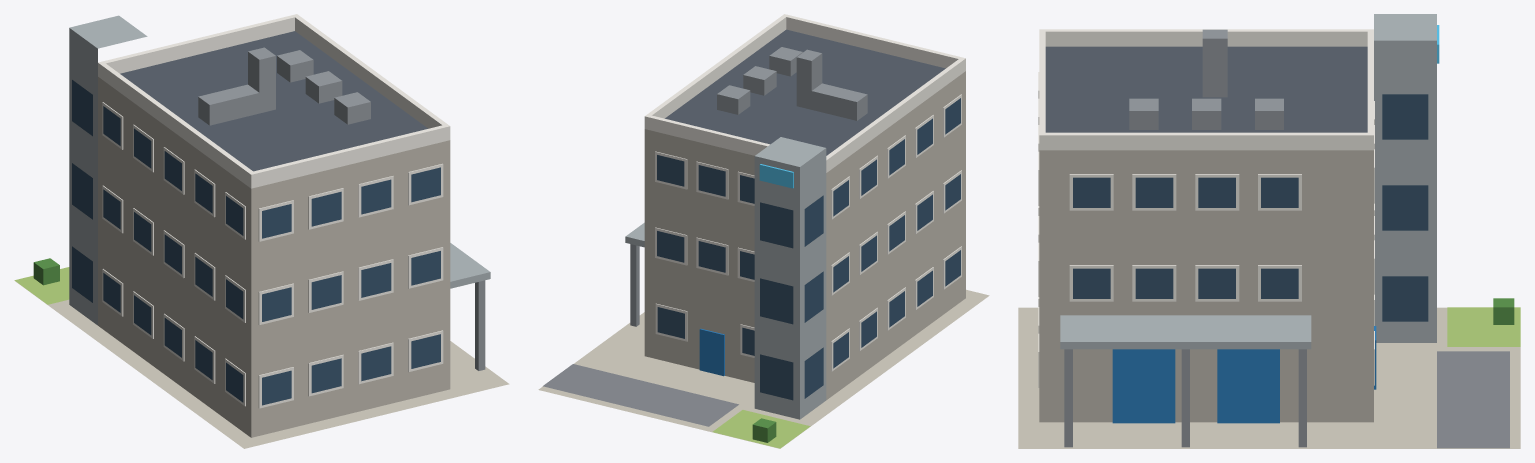
The picture shows the model from 3 angles, left to right: view 1: azimuth 30°, elevation 25°; view 2: azimuth 150°, elevation 25°; view 3: azimuth 270°, elevation 25°; orthographic projection. The views are drawn at different scales.
Visible parts, largest first — view 1: works, window_glass (×27), roof, parapet (×4), yard, stair_tower, duct (×2), ac_unit (×3), window_band (×3), canopy, lawn, post (+1 smaller); view 2: works, roof, stair_tower, yard, parapet (×4), window_band (×6), car_park, window_glass (×5), duct (×2), ac_unit (×3), lawn, door (+3 smaller); view 3: works, roof, yard, stair_tower, parapet (×4), garage_door (×2), window_glass (×8), canopy, car_park, window_band (×3), window_frame (×8), ac_unit (×3) (+4 smaller).
Part boxes in pixels (x1,y1,x2,y2): works: (98, 77, 450, 437); window_glass (×27): (103, 106, 440, 405); roof: (120, 31, 427, 171); parapet (×4): (98, 14, 450, 188); yard: (14, 280, 509, 448); stair_tower: (69, 15, 147, 325); duct (×2): (198, 47, 275, 125); ac_unit (×3): (277, 50, 370, 124); window_band (×3): (72, 80, 92, 302); canopy: (450, 243, 490, 288); lawn: (14, 267, 69, 304); post: (475, 280, 485, 370); works: (644, 71, 965, 399); roof: (665, 29, 945, 155); stair_tower: (754, 137, 826, 419); yard: (538, 289, 989, 448); parapet (×4): (644, 14, 965, 172); window_band (×6): (760, 195, 823, 400); car_park: (543, 364, 738, 426); window_glass (×5): (657, 155, 725, 338); duct (×2): (796, 49, 867, 120); ac_unit (×3): (717, 47, 802, 114); lawn: (712, 410, 810, 448); door: (699, 328, 724, 376); works: (1039, 150, 1373, 422); roof: (1045, 46, 1367, 132); yard: (1018, 307, 1520, 448); stair_tower: (1374, 14, 1436, 342); parapet (×4): (1039, 29, 1373, 150); garage_door (×2): (1112, 349, 1279, 423); window_glass (×8): (1073, 177, 1298, 298); canopy: (1060, 315, 1311, 349); car_park: (1437, 351, 1509, 448); window_band (×3): (1382, 94, 1428, 321); window_frame (×8): (1069, 174, 1301, 301); ac_unit (×3): (1129, 98, 1283, 129).
Size of the model in its own units: 16 by 17.5 by 24.
